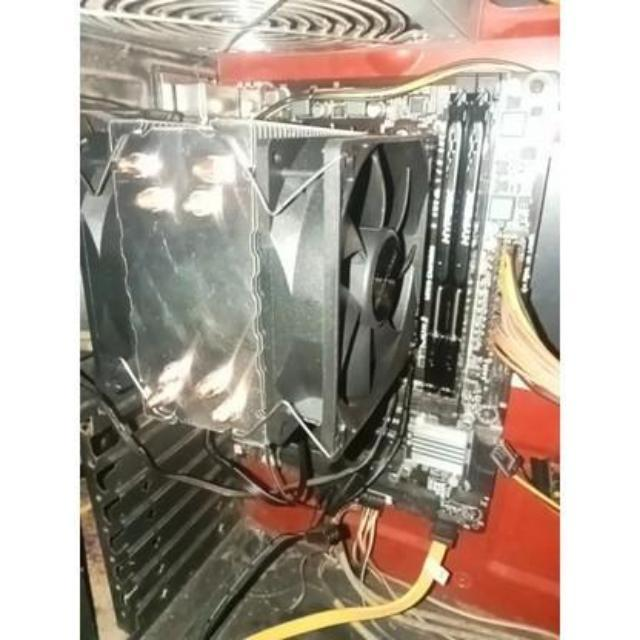CPU_Fan: (80, 98, 423, 458)
